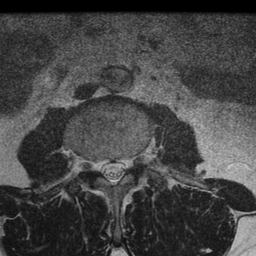CCS_normal: (108, 149, 117, 192)
LFS_normal: (125, 144, 135, 176)
LLS_normal: (117, 149, 125, 184)
RFS_normal: (89, 147, 99, 180)
RLS_normal: (99, 148, 108, 184)
